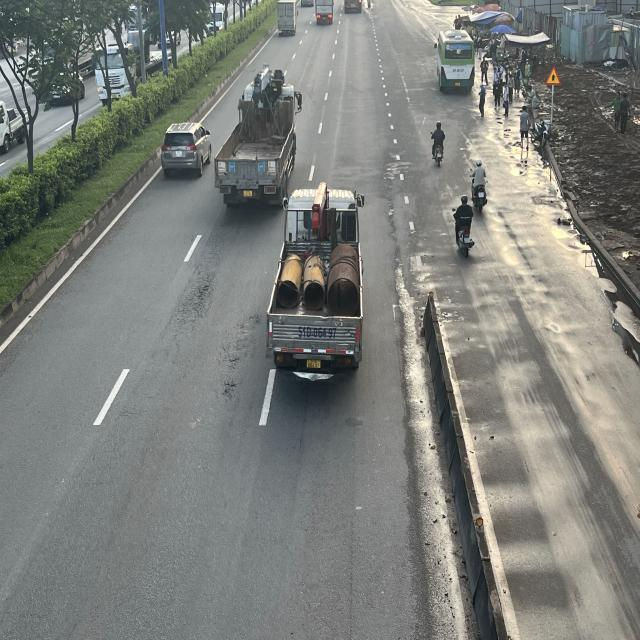car: (162, 120, 214, 178)
coach: (435, 32, 476, 93)
truck: (266, 185, 362, 378), (212, 70, 299, 213), (276, 0, 298, 36), (313, 0, 333, 24)
